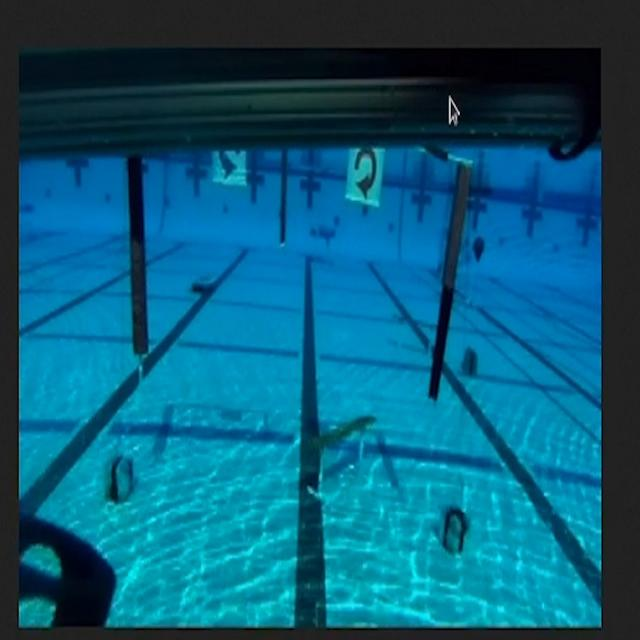Gate: (124, 156, 469, 406)
